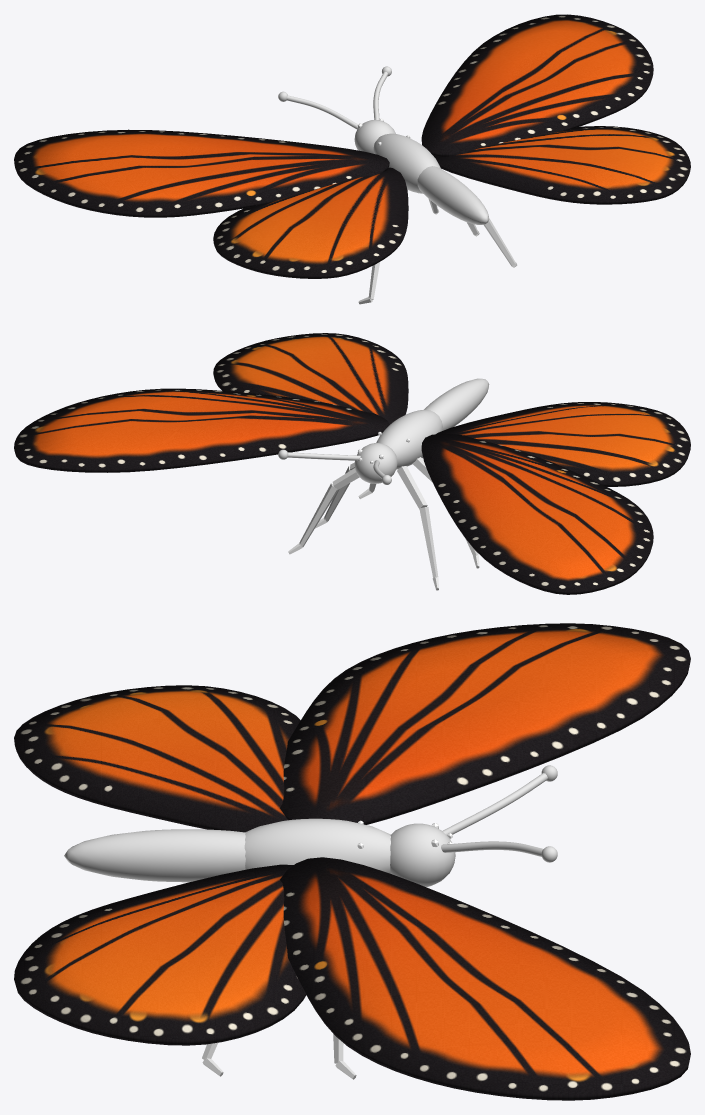
The model's file is ButterflyModel.fbx.
3 views of the same model, one above another, from view 1: azimuth 30°, elevation 25°; view 2: azimuth 150°, elevation 25°; view 3: azimuth 270°, elevation 25° (orthographic). The views are drawn at different scales.
Parts seen in each view (by area): view 1: Forewing -1, Forewing 1, Hindwing -1, Hindwing 1, Abdomen, Thorax, Head; view 2: Forewing -1, Forewing 1, Hindwing -1, Hindwing 1, Thorax, Abdomen, Head, LeftLeg1 Segments, RightLeg1 Segments, Antenna.001; view 3: Forewing 1, Forewing -1, Hindwing 1, Hindwing -1, Abdomen, Thorax, Head, Antenna, Antenna.001.
Part boxes in pixels (x1=…): Forewing -1: x1=14, y1=129, x2=389, y2=217; Forewing 1: x1=421, y1=14, x2=653, y2=156; Hindwing -1: x1=213, y1=167, x2=408, y2=278; Hindwing 1: x1=434, y1=126, x2=690, y2=204; Abdomen: x1=417, y1=166, x2=489, y2=224; Thorax: x1=373, y1=133, x2=440, y2=193; Head: x1=354, y1=120, x2=395, y2=153; Forewing -1: x1=421, y1=433, x2=653, y2=594; Forewing 1: x1=14, y1=388, x2=389, y2=472; Hindwing -1: x1=436, y1=402, x2=690, y2=486; Hindwing 1: x1=213, y1=333, x2=408, y2=424; Thorax: x1=376, y1=409, x2=442, y2=469; Abdomen: x1=424, y1=378, x2=489, y2=430; Head: x1=354, y1=443, x2=397, y2=483; LeftLeg1 Segments: x1=397, y1=466, x2=438, y2=590; RightLeg1 Segments: x1=288, y1=468, x2=359, y2=554; Antenna.001: x1=287, y1=452, x2=360, y2=460; Forewing 1: x1=280, y1=857, x2=690, y2=1100; Forewing -1: x1=280, y1=623, x2=690, y2=824; Hindwing 1: x1=14, y1=864, x2=305, y2=1045; Hindwing -1: x1=14, y1=685, x2=300, y2=832; Abdomen: x1=64, y1=829, x2=245, y2=882; Thorax: x1=244, y1=818, x2=390, y2=873; Head: x1=390, y1=823, x2=455, y2=887; Antenna: x1=442, y1=773, x2=547, y2=835; Antenna.001: x1=441, y1=841, x2=543, y2=856.
Size of the model in its own units: 315 by 65.16 by 191.
